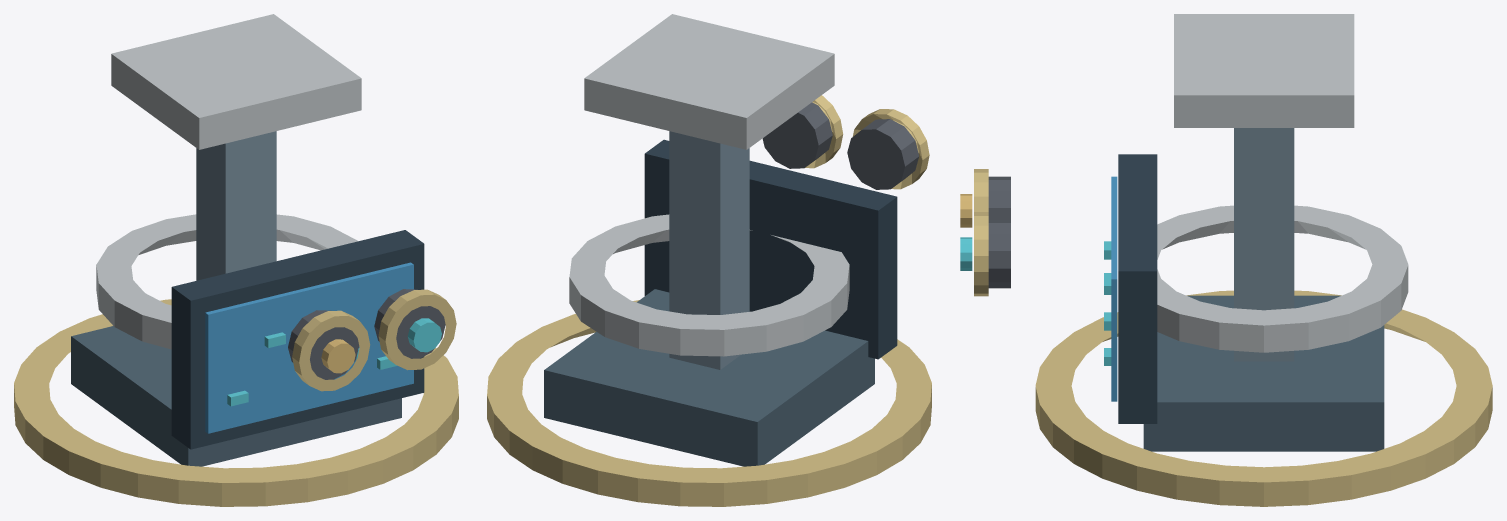
Rendered from 23_L82_ShieldGasketCompressionTester.glb.
3 renders of one model, left to right at view 1: azimuth 30°, elevation 25°; view 2: azimuth 150°, elevation 25°; view 3: azimuth 270°, elevation 25°, orthographic. The views are drawn at different scales.
Visible parts, largest first — view 1: ShieldGasketCompressionTester_Node_0011, ShieldGasketCompressionTester_Node_0002, ShieldGasketCompressionTester_Node_0005, ShieldGasketCompressionTester_Node_0004, ShieldGasketCompressionTester_Node_0001, ShieldGasketCompressionTester_Node_0000, ShieldGasketCompressionTester_Node_0003, ShieldGasketCompressionTester_Node_0016, ShieldGasketCompressionTester_Node_0013, ShieldGasketCompressionTester_Node_0012, ShieldGasketCompressionTester_Node_0015, ShieldGasketCompressionTester_Node_0014 (+1 smaller); view 2: ShieldGasketCompressionTester_Node_0001, ShieldGasketCompressionTester_Node_0011, ShieldGasketCompressionTester_Node_0004, ShieldGasketCompressionTester_Node_0002, ShieldGasketCompressionTester_Node_0003, ShieldGasketCompressionTester_Node_0000, ShieldGasketCompressionTester_Node_0012, ShieldGasketCompressionTester_Node_0015, ShieldGasketCompressionTester_Node_0013, ShieldGasketCompressionTester_Node_0016; view 3: ShieldGasketCompressionTester_Node_0011, ShieldGasketCompressionTester_Node_0001, ShieldGasketCompressionTester_Node_0002, ShieldGasketCompressionTester_Node_0003, ShieldGasketCompressionTester_Node_0000, ShieldGasketCompressionTester_Node_0004, ShieldGasketCompressionTester_Node_0015, ShieldGasketCompressionTester_Node_0005, ShieldGasketCompressionTester_Node_0016, ShieldGasketCompressionTester_Node_0012, ShieldGasketCompressionTester_Node_0013.
Part boxes in pixels (x1=…): ShieldGasketCompressionTester_Node_0011: x1=14, y1=299, x2=458, y2=506; ShieldGasketCompressionTester_Node_0002: x1=111, y1=14, x2=361, y2=149; ShieldGasketCompressionTester_Node_0005: x1=205, y1=262, x2=413, y2=433; ShieldGasketCompressionTester_Node_0004: x1=171, y1=230, x2=424, y2=449; ShieldGasketCompressionTester_Node_0001: x1=71, y1=326, x2=401, y2=466; ShieldGasketCompressionTester_Node_0000: x1=196, y1=131, x2=276, y2=280; ShieldGasketCompressionTester_Node_0003: x1=96, y1=214, x2=358, y2=349; ShieldGasketCompressionTester_Node_0016: x1=378, y1=289, x2=456, y2=370; ShieldGasketCompressionTester_Node_0013: x1=292, y1=310, x2=370, y2=391; ShieldGasketCompressionTester_Node_0012: x1=288, y1=310, x2=359, y2=379; ShieldGasketCompressionTester_Node_0015: x1=374, y1=289, x2=445, y2=358; ShieldGasketCompressionTester_Node_0014: x1=321, y1=339, x2=355, y2=373; ShieldGasketCompressionTester_Node_0001: x1=544, y1=289, x2=874, y2=466; ShieldGasketCompressionTester_Node_0011: x1=487, y1=300, x2=931, y2=506; ShieldGasketCompressionTester_Node_0004: x1=644, y1=139, x2=897, y2=359; ShieldGasketCompressionTester_Node_0002: x1=584, y1=14, x2=834, y2=149; ShieldGasketCompressionTester_Node_0003: x1=569, y1=214, x2=849, y2=356; ShieldGasketCompressionTester_Node_0000: x1=669, y1=131, x2=749, y2=369; ShieldGasketCompressionTester_Node_0012: x1=847, y1=119, x2=918, y2=189; ShieldGasketCompressionTester_Node_0015: x1=762, y1=102, x2=832, y2=168; ShieldGasketCompressionTester_Node_0013: x1=852, y1=109, x2=929, y2=189; ShieldGasketCompressionTester_Node_0016: x1=805, y1=95, x2=843, y2=168; ShieldGasketCompressionTester_Node_0011: x1=1035, y1=290, x2=1492, y2=506; ShieldGasketCompressionTester_Node_0001: x1=1143, y1=295, x2=1384, y2=451; ShieldGasketCompressionTester_Node_0002: x1=1174, y1=14, x2=1354, y2=127; ShieldGasketCompressionTester_Node_0003: x1=1157, y1=205, x2=1408, y2=352; ShieldGasketCompressionTester_Node_0000: x1=1234, y1=128, x2=1294, y2=361; ShieldGasketCompressionTester_Node_0004: x1=1118, y1=154, x2=1157, y2=423; ShieldGasketCompressionTester_Node_0015: x1=988, y1=220, x2=1010, y2=288; ShieldGasketCompressionTester_Node_0005: x1=1111, y1=176, x2=1117, y2=401; ShieldGasketCompressionTester_Node_0016: x1=974, y1=212, x2=988, y2=296; ShieldGasketCompressionTester_Node_0012: x1=988, y1=176, x2=1010, y2=219; ShieldGasketCompressionTester_Node_0013: x1=974, y1=169, x2=988, y2=211.
Size of the model in its own units: 0.76 by 0.6525 by 0.885.
